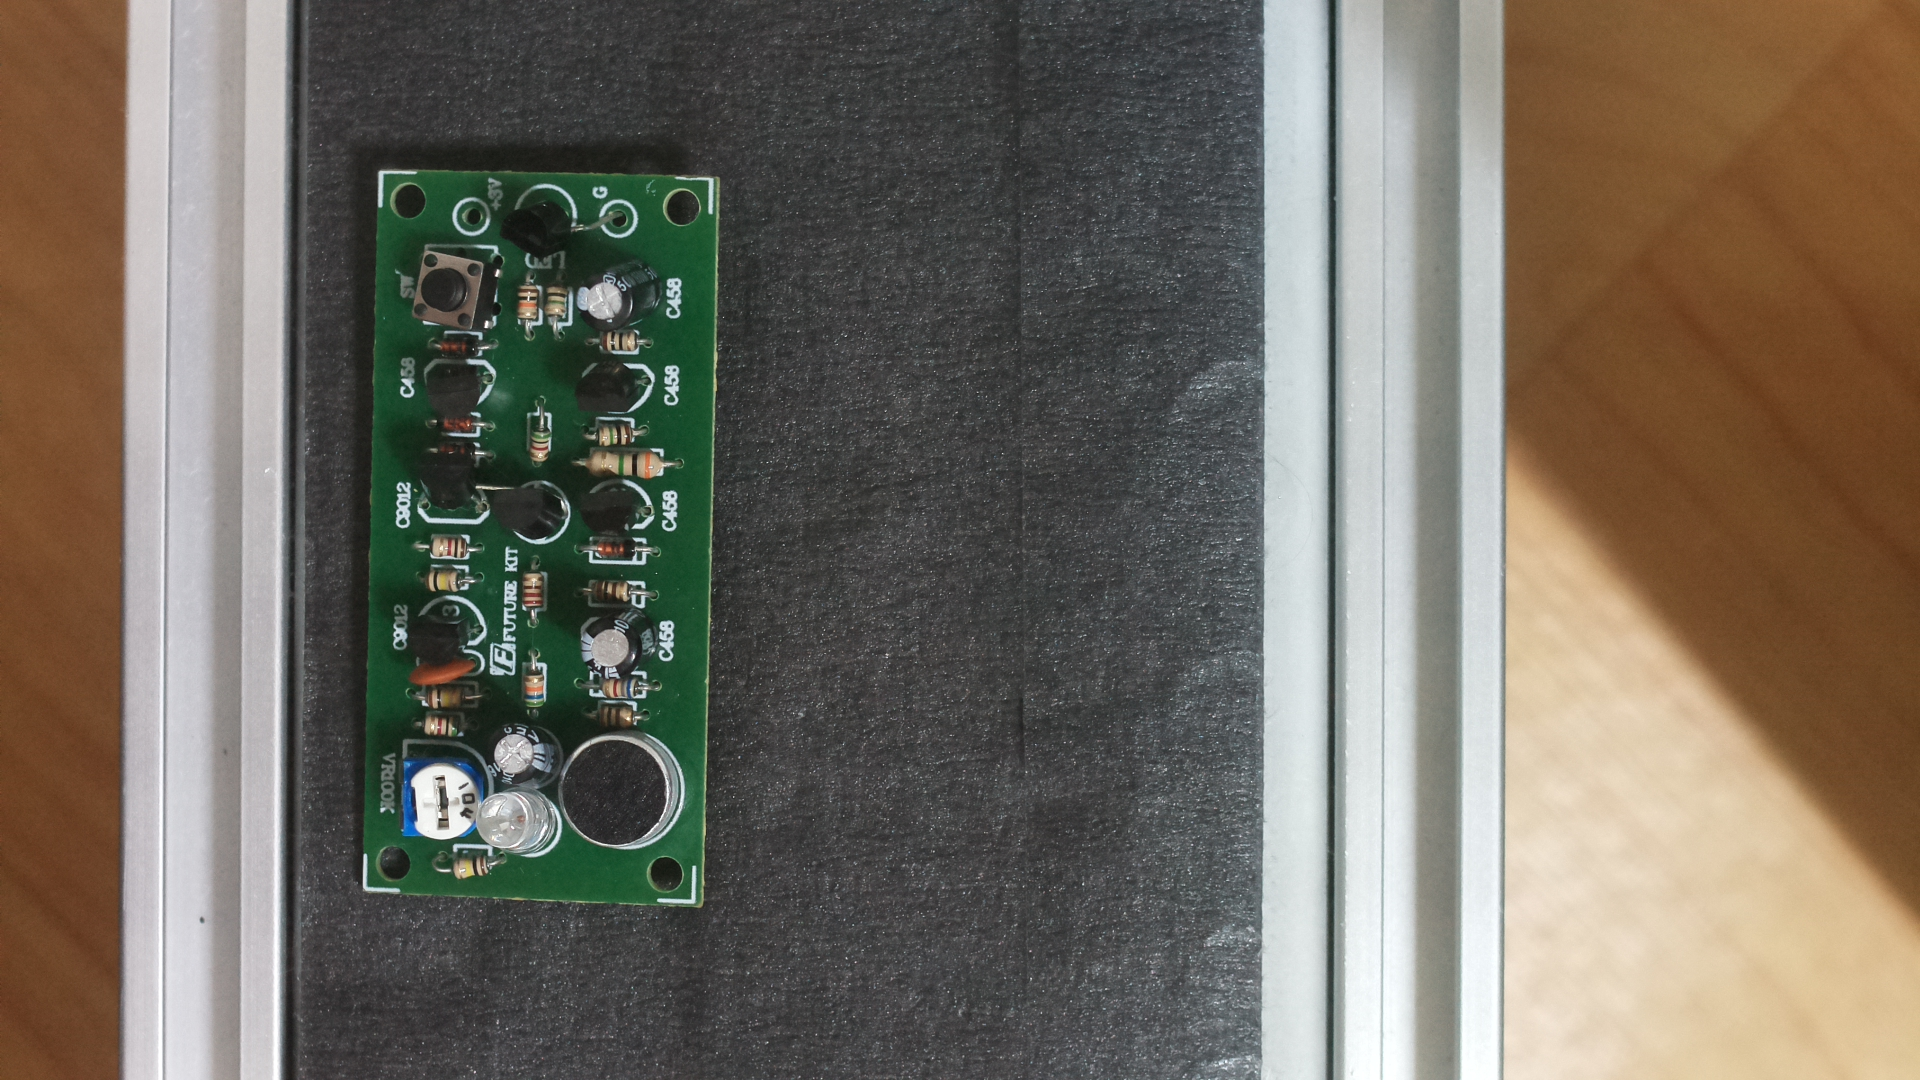A_Misordered: (356, 145, 735, 940)
